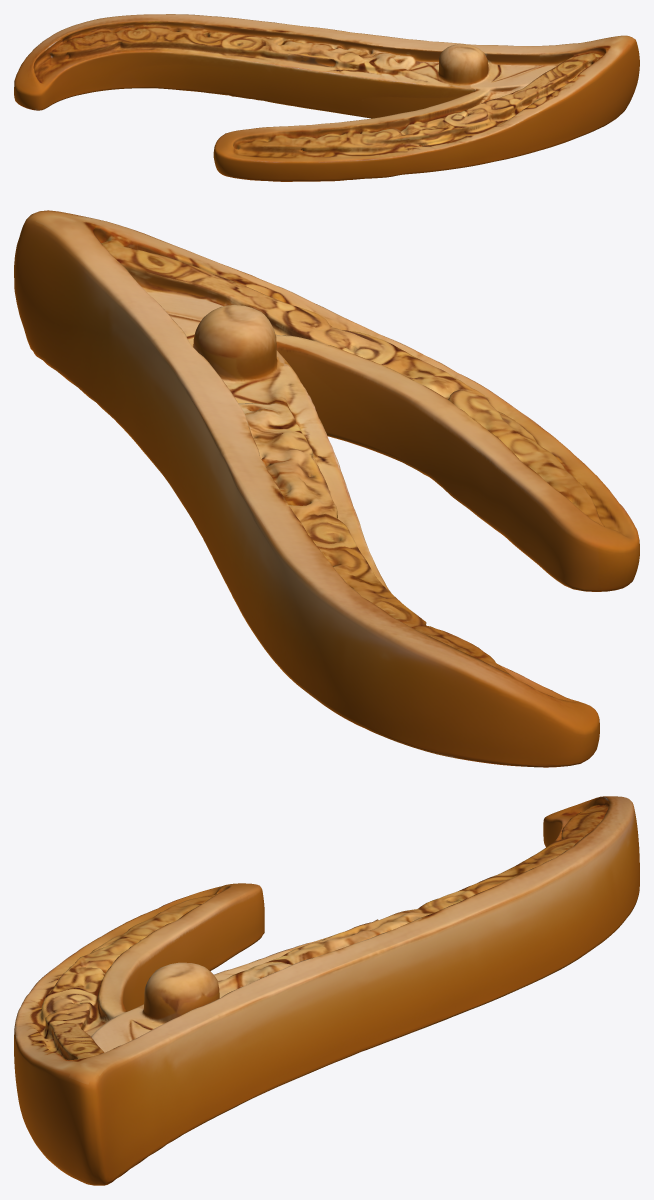
Rendered from boomerang.glb.
3 renders of one model, top to bottom at view 1: azimuth 30°, elevation 25°; view 2: azimuth 150°, elevation 25°; view 3: azimuth 270°, elevation 25°, orthographic. The views are drawn at different scales.
Parts seen in each view (by area): view 1: model; view 2: model; view 3: model.
Part boxes in pixels (left/top/right/bottom): model: left=14, top=14, right=639, bottom=181; model: left=14, top=210, right=639, bottom=767; model: left=14, top=796, right=639, bottom=1185.
Bounding box in the file's own units: 1.9 × 0.3156 × 1.39.
1 material, 1 textured.
